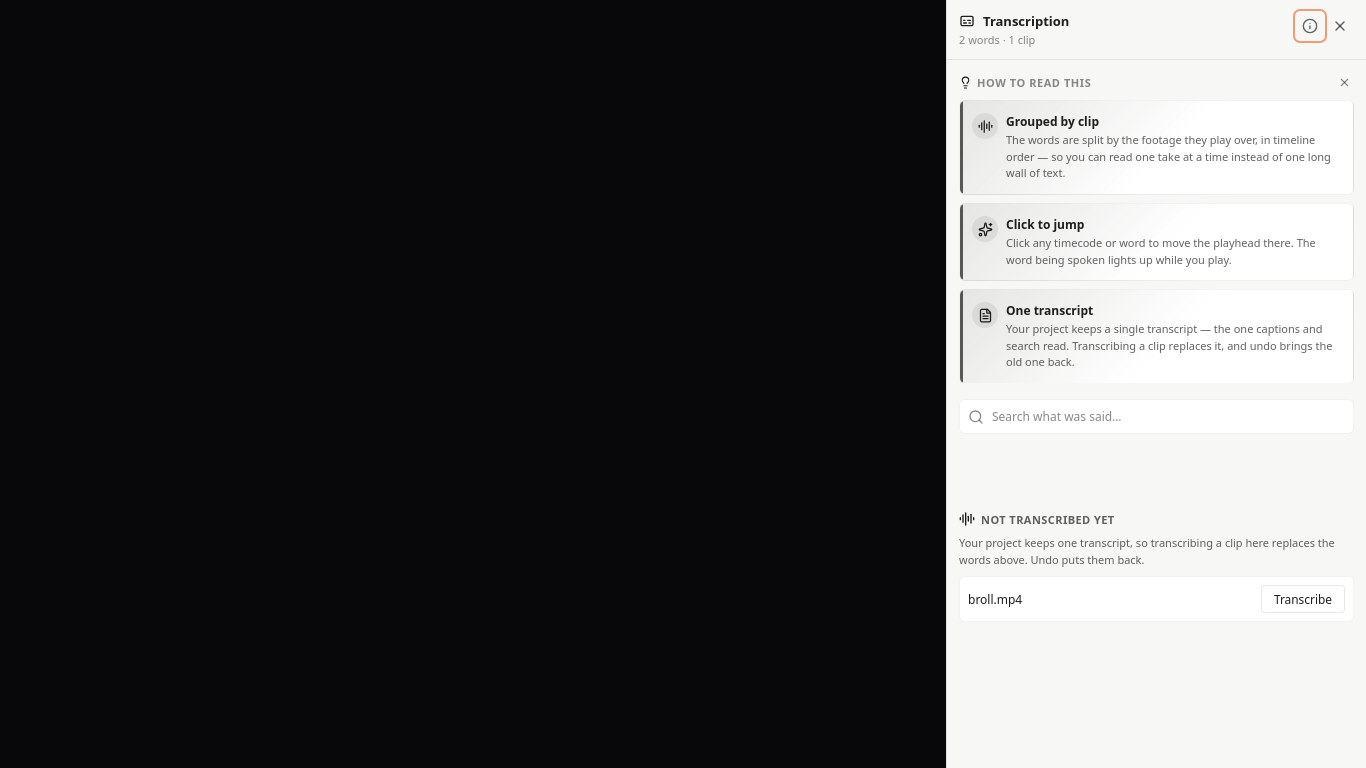
Test case: TranscriptionPanel › filters lines by the search query
Type "nothing" into the search field named "search transcription".
click(1168, 416); type("nothing")  # box 992,400 -> 1345,433
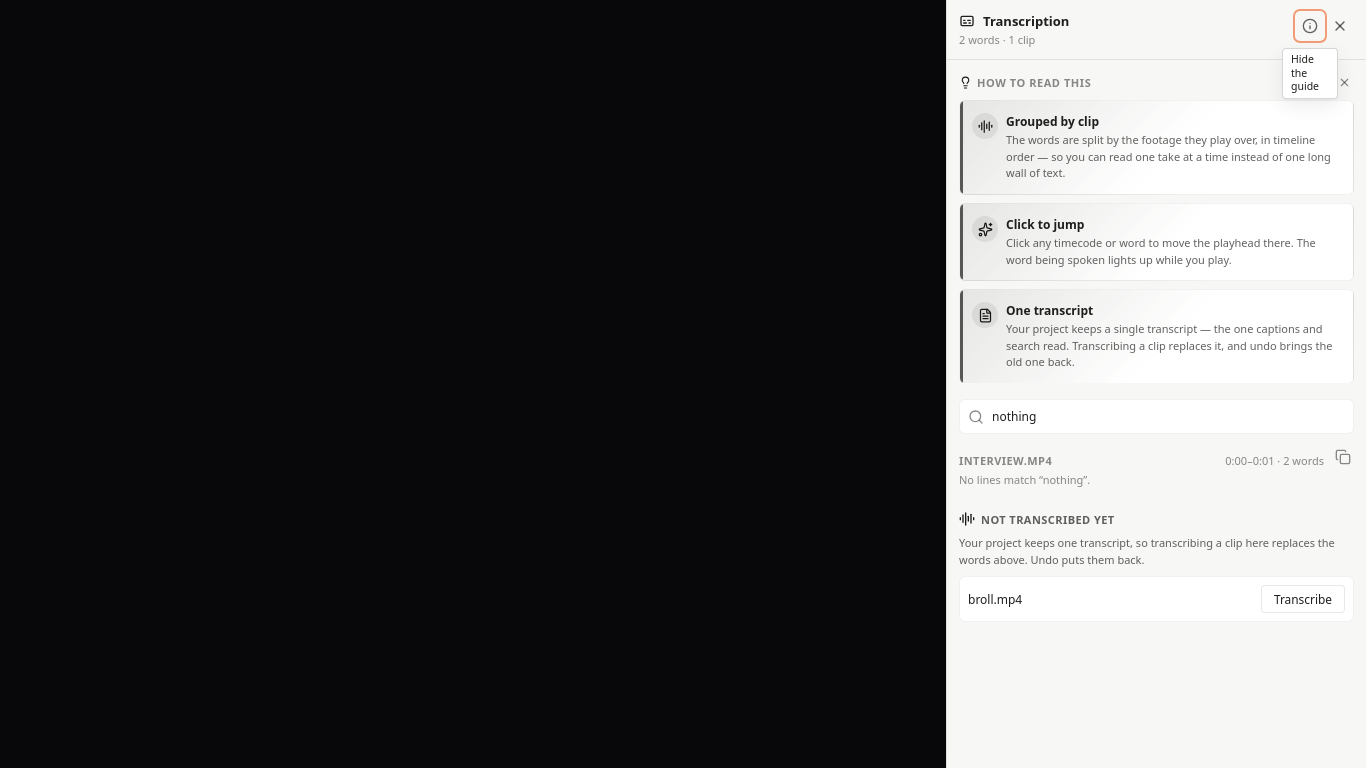
Expected: the text "No lines match “nothing”." is shown, 959,472 -> 1090,487
